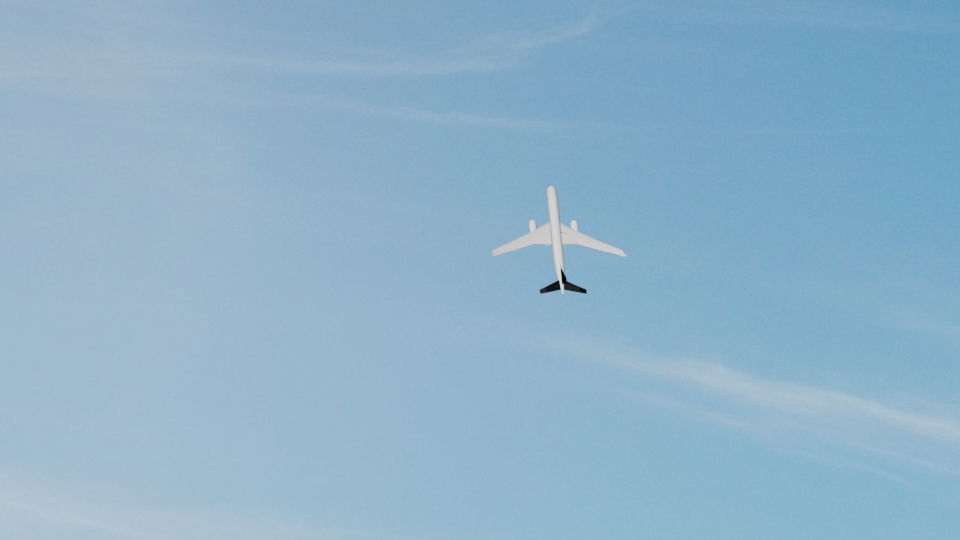plane: (487, 182, 627, 297)
